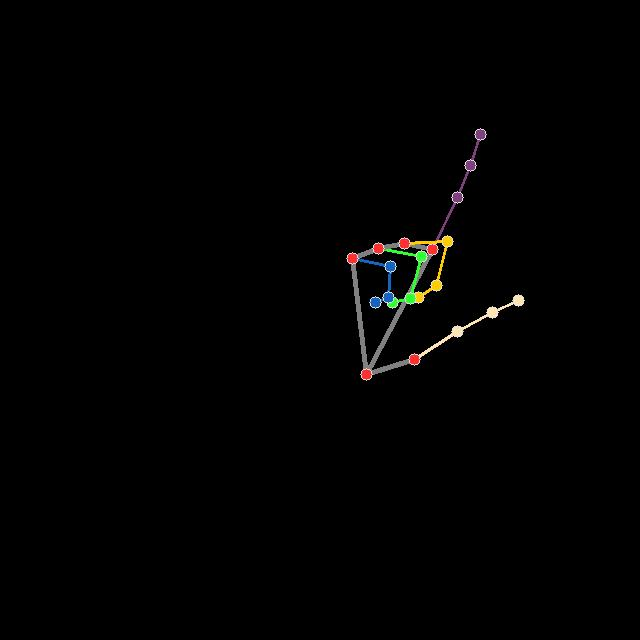gun: (344, 126, 531, 383)
